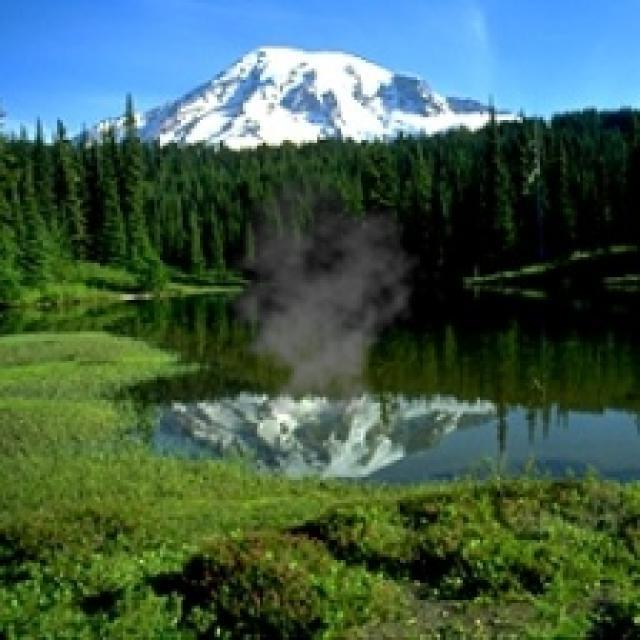Smoke: (208, 172, 422, 414)
